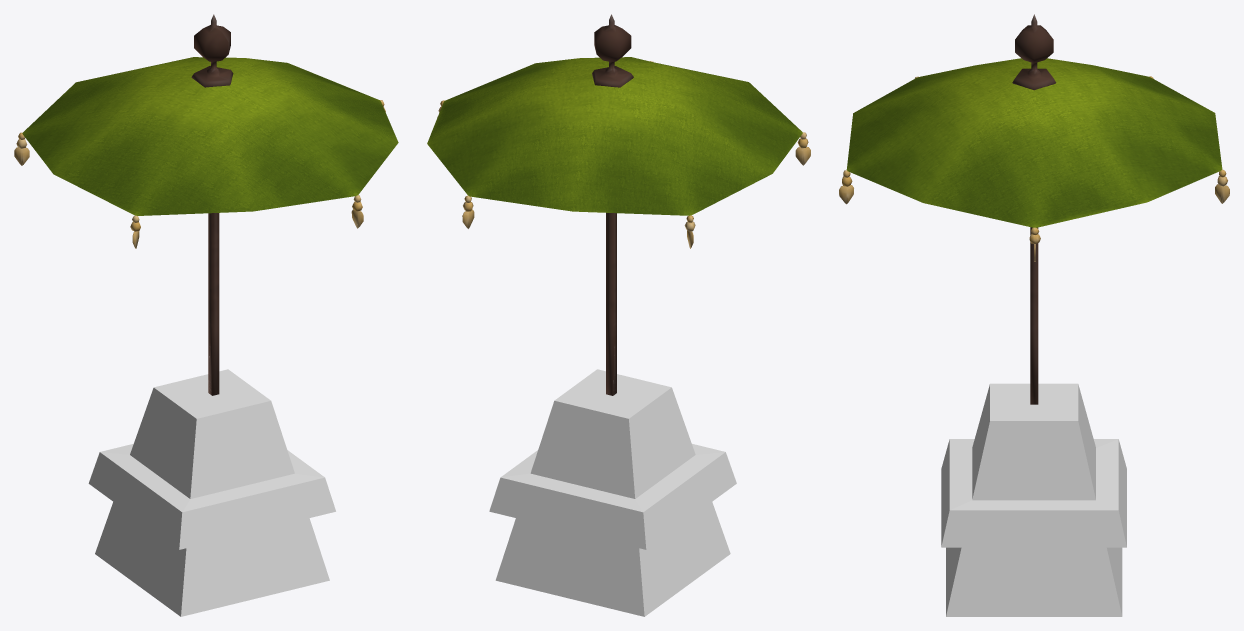
The model's file is Payung2.fbx.
3 views of the same model, side by side, from view 1: azimuth 30°, elevation 25°; view 2: azimuth 150°, elevation 25°; view 3: azimuth 270°, elevation 25° (orthographic). The views are drawn at different scales.
Visible parts, largest first — view 1: Payung2_LOD0; view 2: Payung2_LOD0; view 3: Payung2_LOD0.
Part boxes in pixels (x1,y1,x2,y2): Payung2_LOD0: (14, 14, 398, 616); Payung2_LOD0: (427, 14, 810, 616); Payung2_LOD0: (839, 14, 1229, 616).
Size of what is drawn, in the model's own units: 606 by 599 by 957.
